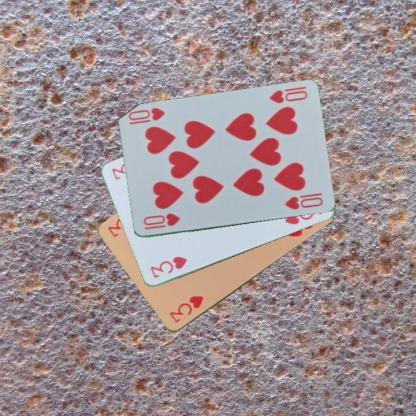10h: (140, 211, 181, 231), (266, 88, 309, 105)
3h: (166, 292, 204, 324), (148, 254, 188, 280)
